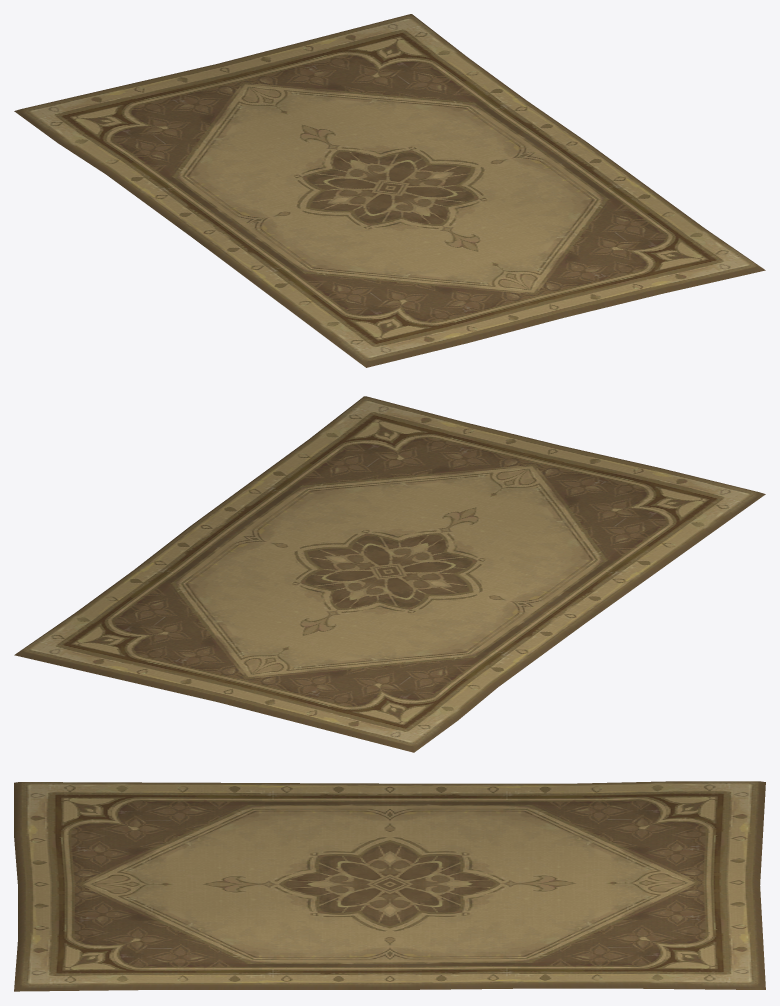
File: Homeworld_Interior_Xm_Carpet_Prop_Wharf_02_Vo.fbx
3 renders of one model, top to bottom at view 1: azimuth 30°, elevation 25°; view 2: azimuth 150°, elevation 25°; view 3: azimuth 270°, elevation 25°, orthographic. The views are drawn at different scales.
Parts seen in each view (by area): view 1: Homeworld_Interior_Xm_Carpet_Prop_Wharf_02_Vo; view 2: Homeworld_Interior_Xm_Carpet_Prop_Wharf_02_Vo; view 3: Homeworld_Interior_Xm_Carpet_Prop_Wharf_02_Vo.
Part boxes in pixels (x1=…): Homeworld_Interior_Xm_Carpet_Prop_Wharf_02_Vo: x1=14, y1=14, x2=765, y2=367; Homeworld_Interior_Xm_Carpet_Prop_Wharf_02_Vo: x1=14, y1=396, x2=765, y2=752; Homeworld_Interior_Xm_Carpet_Prop_Wharf_02_Vo: x1=14, y1=781, x2=765, y2=991.
Bounding box in the file's own units: 2.37 × 0.0155 × 3.6.
